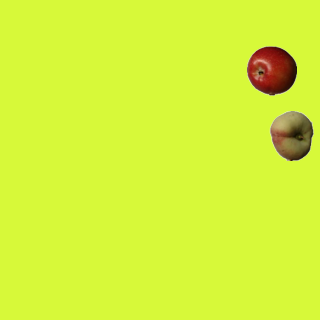Apple Braeburn: (246, 45, 296, 95)
Peach Flat: (266, 110, 316, 160)
